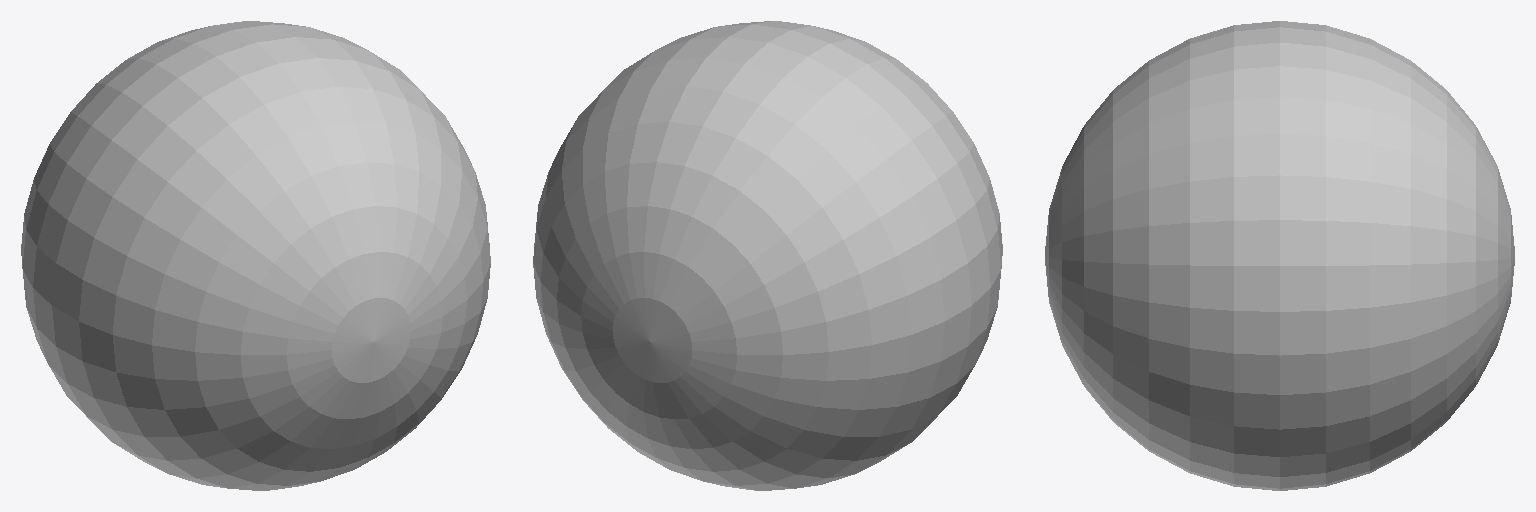
File: Purple Planet.obj
The picture shows the model from 3 angles: view 1: azimuth 30°, elevation 25°; view 2: azimuth 150°, elevation 25°; view 3: azimuth 270°, elevation 25°; orthographic projection.
Parts seen in each view (by area): view 1: Purple_Planet_Sphere.001; view 2: Purple_Planet_Sphere.001; view 3: Purple_Planet_Sphere.001.
Boxes of the visible parts, box(x1,y1,x2,y2) form: Purple_Planet_Sphere.001: box(21, 21, 490, 490); Purple_Planet_Sphere.001: box(533, 21, 1002, 490); Purple_Planet_Sphere.001: box(1045, 21, 1514, 490).
Bounding box in the file's own units: 2 × 2 × 2.